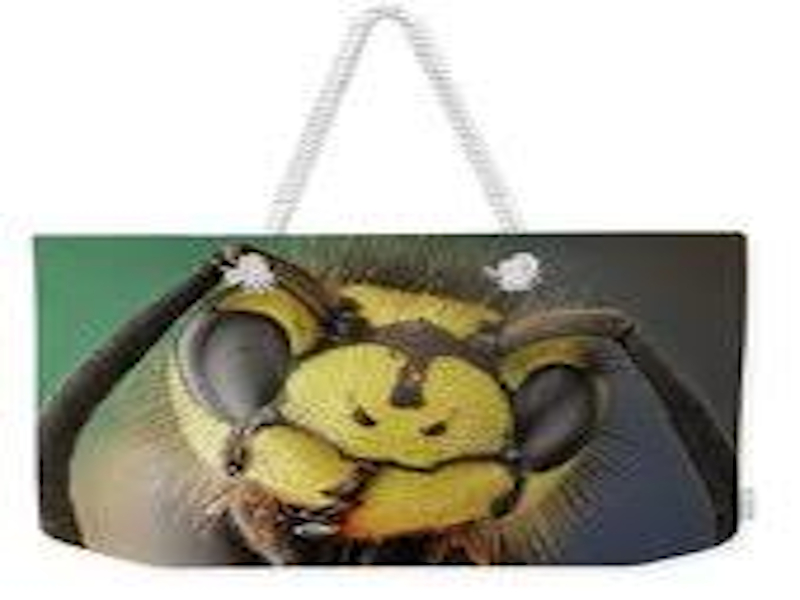chax: (43, 230, 769, 560)
